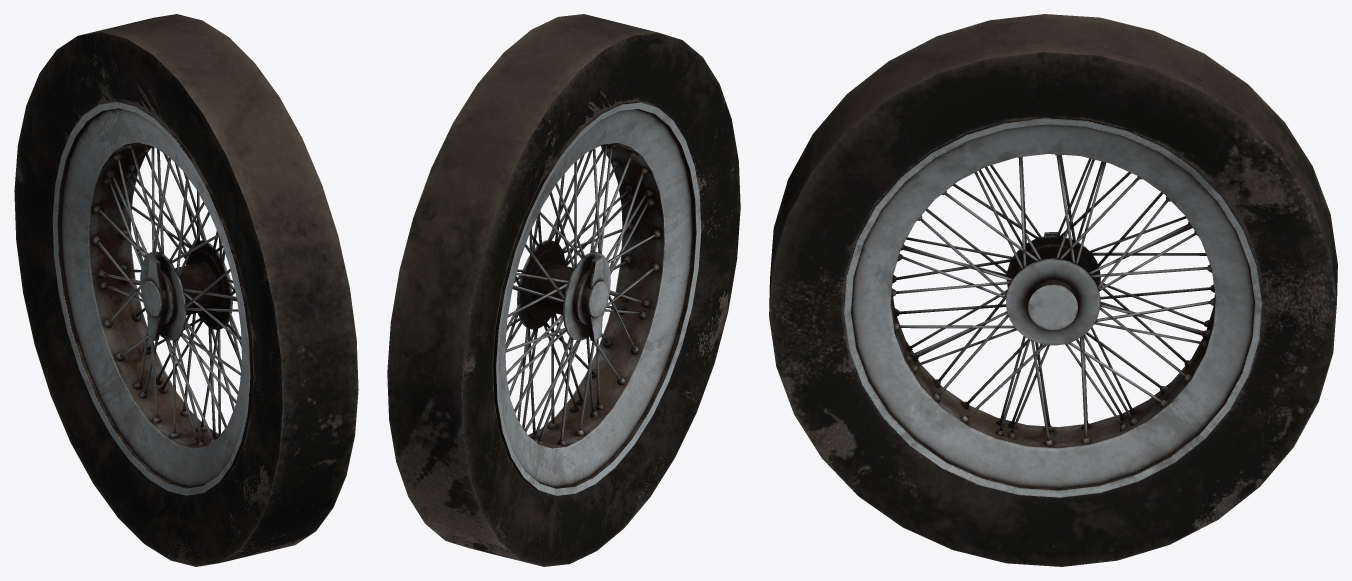
Rendered from VintageCar_WheelFR.fbx.
3 views of the same model, side by side, from view 1: azimuth 30°, elevation 25°; view 2: azimuth 150°, elevation 25°; view 3: azimuth 270°, elevation 25° (orthographic). The views are drawn at different scales.
Parts seen in each view (by area): view 1: VintageCar_WheelFR; view 2: VintageCar_WheelFR; view 3: VintageCar_WheelFR.
Part boxes in pixels (x1,y1,x2,y2): VintageCar_WheelFR: (14,14,358,566); VintageCar_WheelFR: (387,14,740,566); VintageCar_WheelFR: (769,14,1337,566).
Bounding box in the file's own units: 14.14 × 78.97 × 79.09.
1 material, 1 textured.
